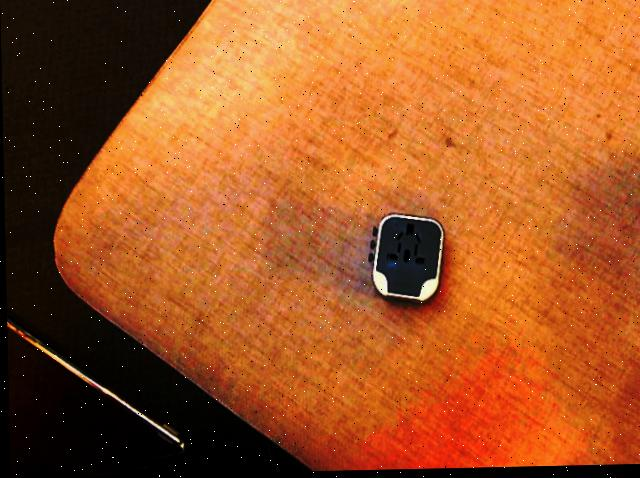adapter: (366, 213, 443, 305)
